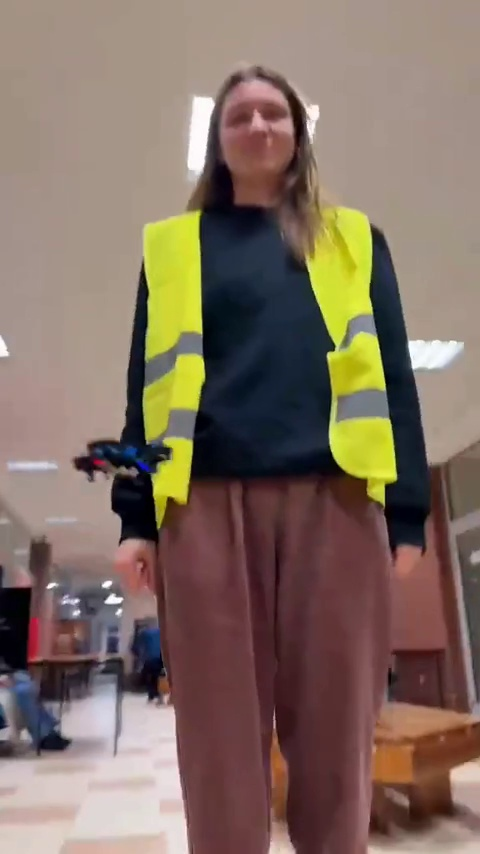drone: (72, 442, 173, 476)
vest: (99, 63, 441, 854)
